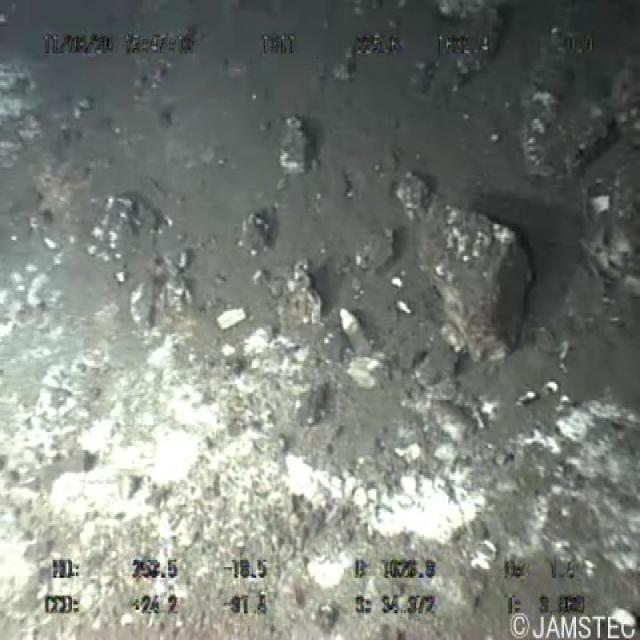plastic: (332, 304, 375, 363)
